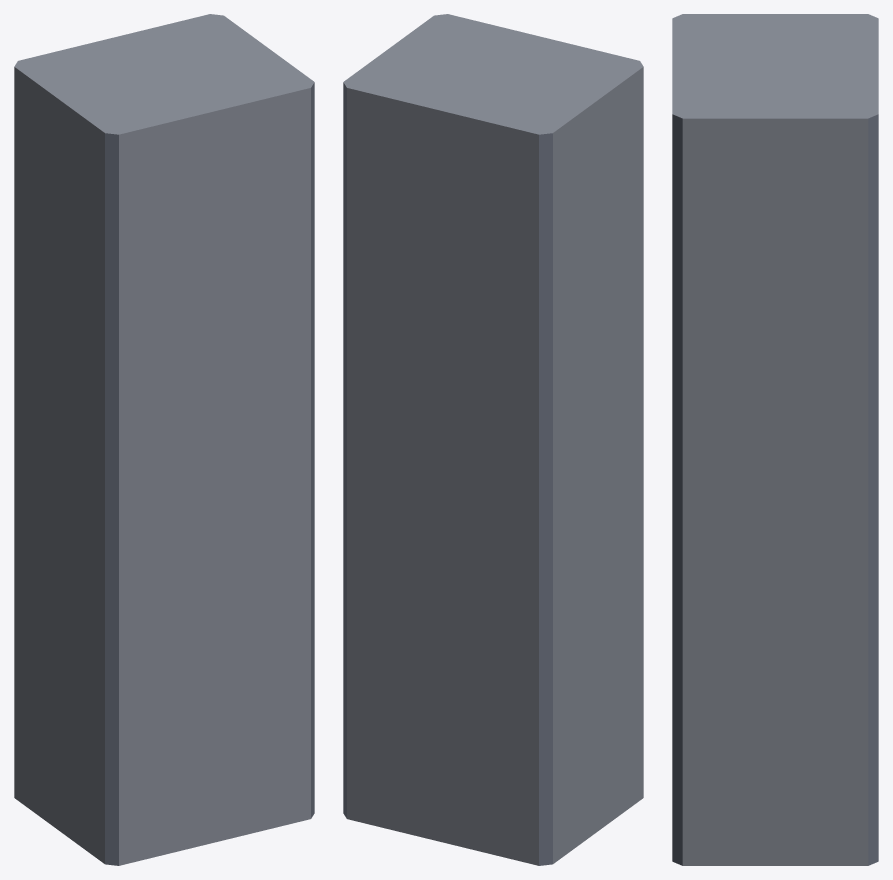
Rendered from Bridge_L_Pillar.fbx.
The picture shows the model from 3 angles, left to right: view 1: azimuth 30°, elevation 25°; view 2: azimuth 150°, elevation 25°; view 3: azimuth 270°, elevation 25°; orthographic projection. The views are drawn at different scales.
Parts seen in each view (by area): view 1: Bridge_L_Pillar; view 2: Bridge_L_Pillar; view 3: Bridge_L_Pillar.
Boxes of the visible parts, box(x1,y1,x2,y2) form: Bridge_L_Pillar: box(14, 14, 314, 865); Bridge_L_Pillar: box(343, 14, 643, 865); Bridge_L_Pillar: box(672, 14, 878, 865).
Size of the model in its own units: 120 by 400 by 100.
1 material, 1 textured.
